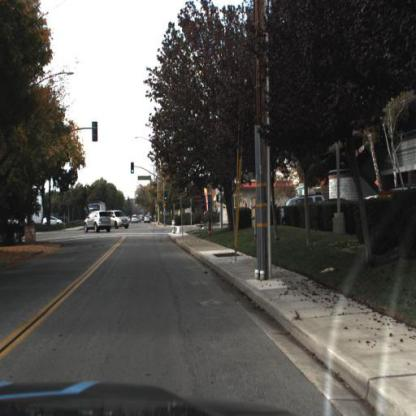car: (84, 207, 111, 232), (105, 209, 129, 231), (41, 212, 65, 228)
